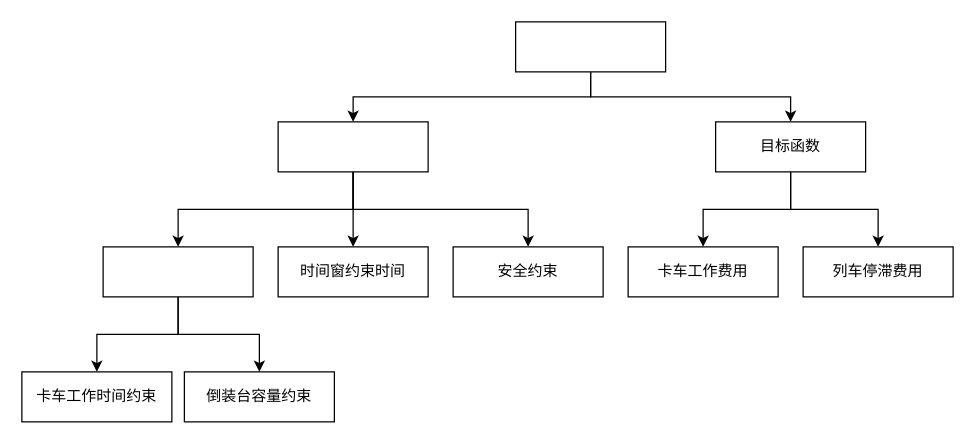
This 975x444 diagram has some shape labels left out. The centre of each missing label's shape, as x and y in pixels:
"优化模型" goes at point (590, 46).
"约束条件" goes at point (352, 146).
"资源约束" goes at point (177, 271).
